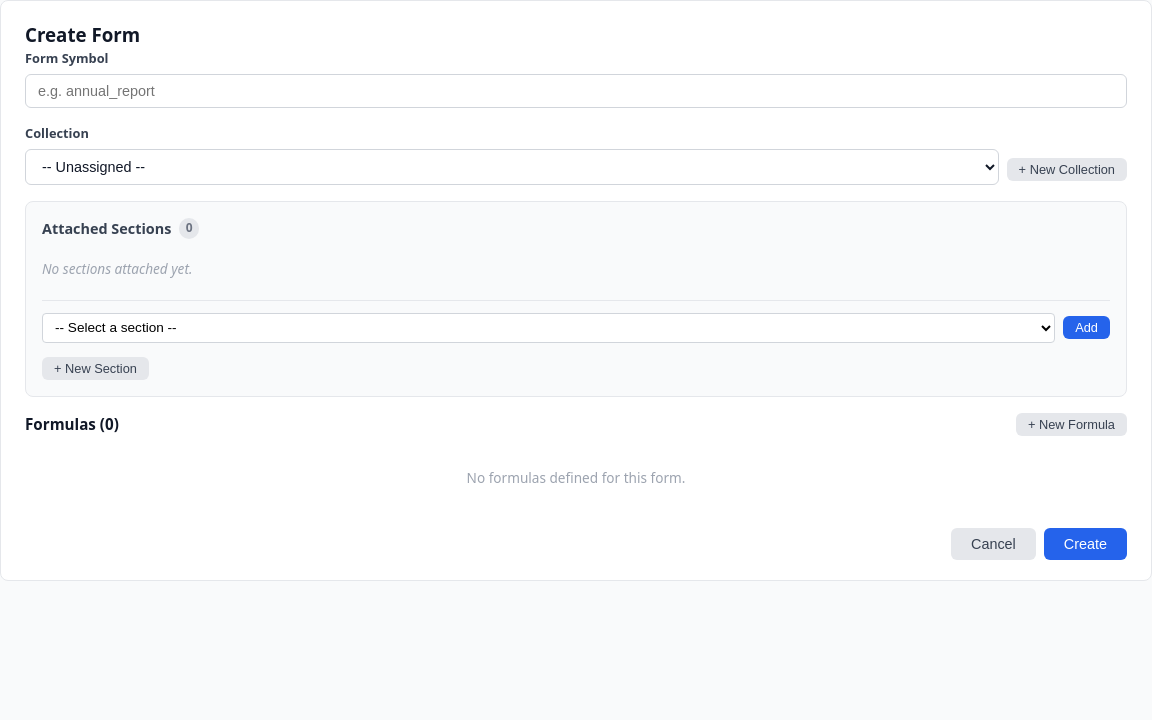
Test: FormForm › given a short symbol › when submitted, then shows symbol length validation error
Step 1. Type "a" into the field labelled "Form Symbol" → [576, 91], box [25,74,1127,108]
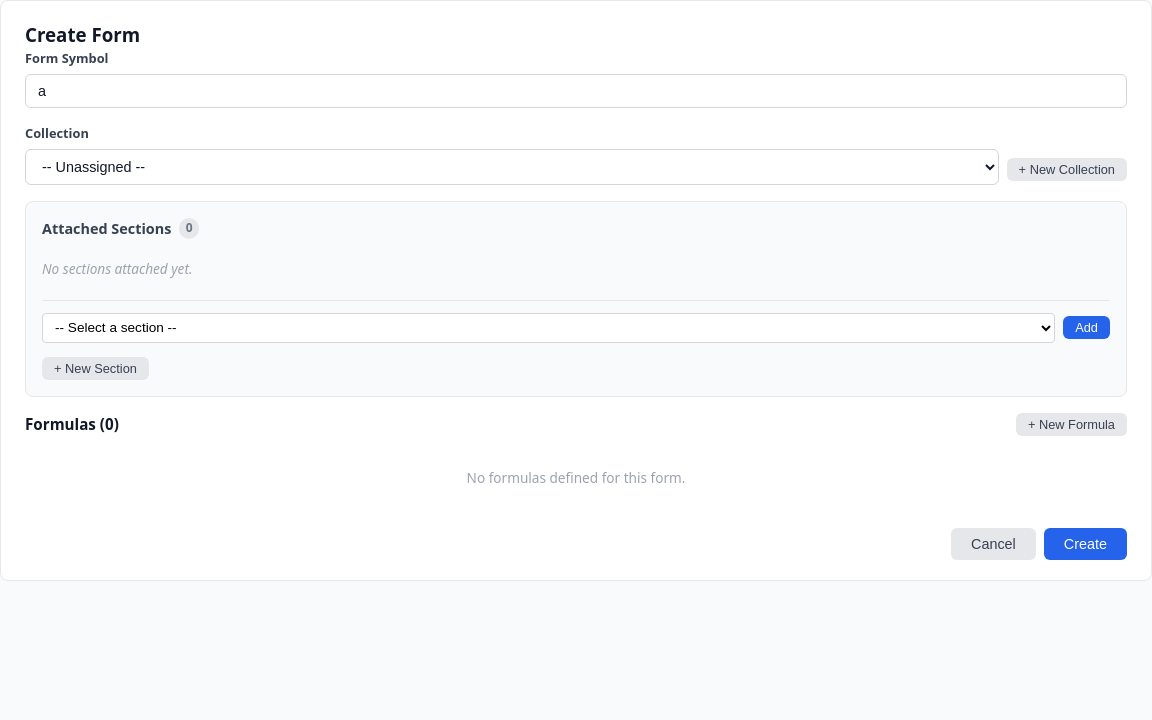
Step 2. Click the button "Create" → [1085, 544], box [1044,528,1127,560]
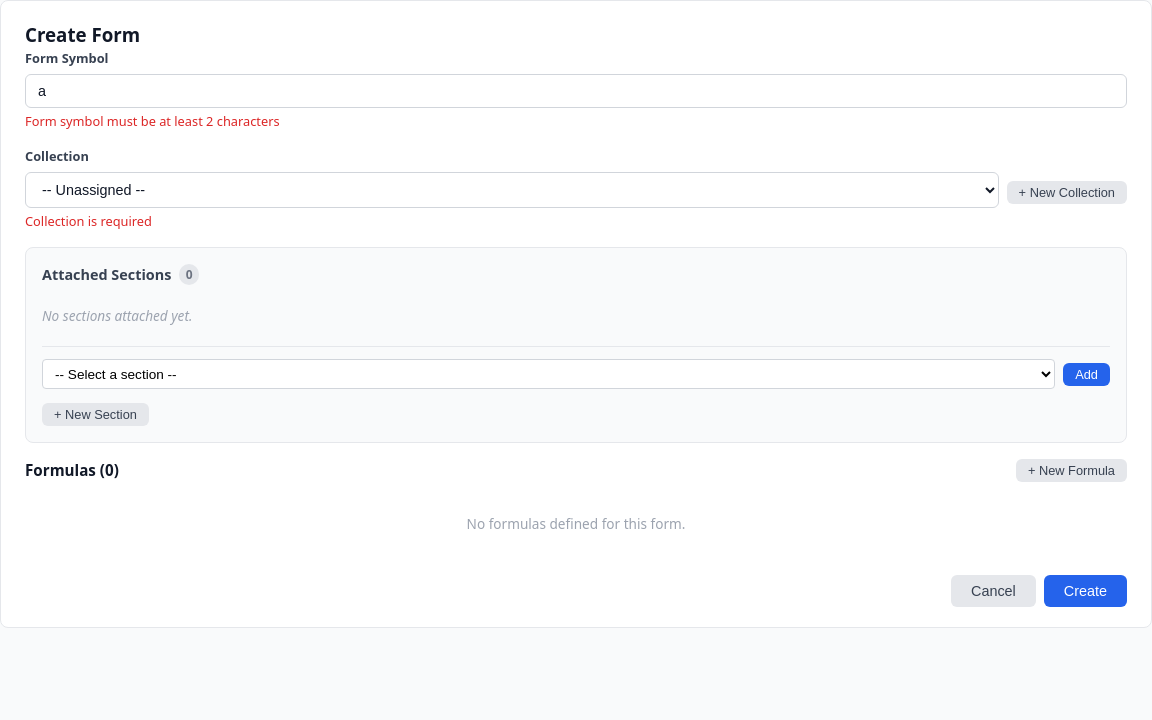
Check: the text "Form symbol must be at least 2 characters" is shown, box [25,112,280,130]
